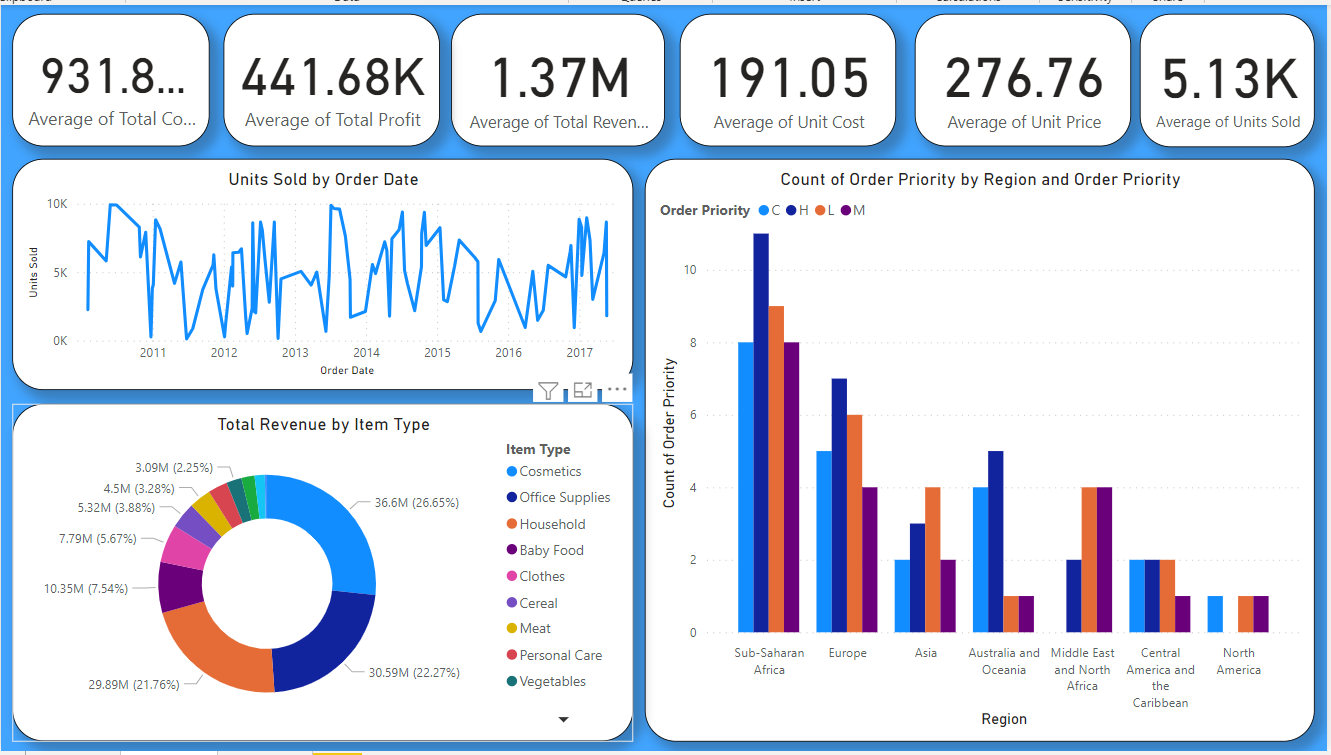

What the dashboard file says about the page in this screenshot:
{"tool":"powerbi","page":{"name":"Page 2","canvas":[1280,720],"ordinal":1},"visuals":[{"type":"card","fields":{"Values":["Avg(Amazon Sales data.Total Cost)"]},"box":[10.9,8.4,190.6,127.8],"z":0},{"type":"card","fields":{"Values":["Avg(Amazon Sales data.Total Revenue)"]},"box":[434.2,8.4,206.2,127.8],"z":1000},{"type":"card","fields":{"Values":["Avg(Amazon Sales data.Unit Cost)"]},"box":[654.9,8.4,208.6,127.8],"z":2000},{"type":"card","fields":{"Values":["Avg(Amazon Sales data.Unit Price)"]},"box":[881.6,8.4,208.6,127.8],"z":3000},{"type":"card","fields":{"Values":["Avg(Amazon Sales data.Units Sold)"]},"box":[1098.7,8.4,168.8,129],"z":4000},{"type":"card","fields":{"Values":["Avg(Amazon Sales data.Total Profit)"]},"box":[214.7,8.4,208.6,127.8],"z":5000},{"type":"lineChart","fields":{"Category":["Amazon Sales data.Order Date"],"Y":["Sum(Amazon Sales data.Units Sold)"]},"box":[10.9,148.3,599.4,223.1],"z":6000},{"type":"clusteredColumnChart","fields":{"Y":["CountNonNull(Amazon Sales data.Order Priority)"],"Category":["Amazon Sales data.Region"],"Series":["Amazon Sales data.Order Priority"]},"box":[621.1,148.3,646.4,562],"z":7000},{"type":"donutChart","fields":{"Category":["Amazon Sales data.Item Type"],"Y":["Sum(Amazon Sales data.Total Revenue)"]},"box":[10.9,384.7,599.4,325.6],"z":8000}]}

Visuals, with their boxes in screenshot pixels (x1, y1, x2, y2), scaled from the page's 1280x720 canvas onto the 1331x755 screenshot:
card - Avg(Amazon Sales data.Total Cost): [11,9,210,143]
card - Avg(Amazon Sales data.Total Revenue): [452,9,666,143]
card - Avg(Amazon Sales data.Unit Cost): [681,9,898,143]
card - Avg(Amazon Sales data.Unit Price): [917,9,1134,143]
card - Avg(Amazon Sales data.Units Sold): [1142,9,1318,144]
card - Avg(Amazon Sales data.Total Profit): [223,9,440,143]
lineChart - Amazon Sales data.Order Date x Sum(Amazon Sales data.Units Sold): [11,156,635,389]
clusteredColumnChart - CountNonNull(Amazon Sales data.Order Priority) x Amazon Sales data.Region: [646,156,1318,745]
donutChart - Amazon Sales data.Item Type x Sum(Amazon Sales data.Total Revenue): [11,403,635,745]
